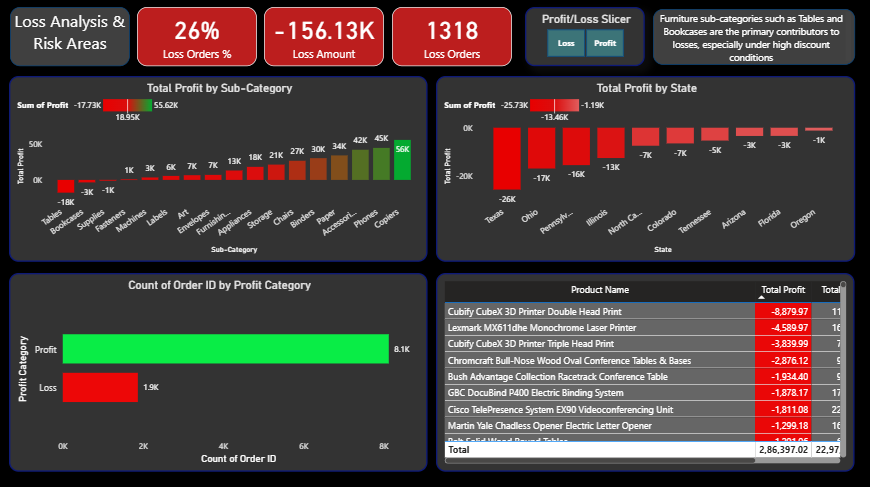

What the dashboard file says about the page in this screenshot:
{"tool":"powerbi","page":{"name":"Loss Analysis ","canvas":[1280,720],"ordinal":1},"visuals":[{"type":"columnChart","fields":{"Category":["dim_product.Sub-Category"],"Y":["fact_superstore.Total Profit"]},"box":[13.2,114.6,615,273.3],"z":0},{"type":"columnChart","fields":{"Category":["dim_location.State"],"Y":["fact_superstore.Total Profit"]},"box":[640.7,114.6,615.7,273.3],"z":1000},{"type":"tableEx","fields":{"Values":["dim_product.Product Name","fact_superstore.Total Profit","fact_superstore.Total Sales","Sum(fact_superstore.Discount)"]},"box":[640.7,404.1,615,292.4],"z":2000},{"type":"slicer","title":"Profit/Loss Slicer","fields":{"Values":["fact_superstore.Profit Category"]},"box":[771.4,13.2,176.3,86.7],"z":3000},{"type":"card","fields":{"Values":["fact_superstore.Loss Amount"]},"box":[387.9,13.2,176.3,86.7],"z":4000},{"type":"card","fields":{"Values":["fact_superstore.Loss Orders"]},"box":[576,13.2,176.3,86.7],"z":5000},{"type":"card","fields":{"Values":["fact_superstore.Loss Orders %"]},"box":[201.3,13.2,176.3,86.7],"z":6000},{"type":"textbox","box":[14.7,13.2,176.3,86.7],"z":7000},{"type":"textbox","box":[959.5,16.2,296.8,82.3],"z":8000},{"type":"barChart","fields":{"Y":["CountNonNull(fact_superstore.Order ID)"],"Category":["fact_superstore.Profit Category"]},"box":[13,404,615,292],"z":9000}]}

Visuals, with their boxes in screenshot pixels (x1, y1, x2, y2), scaled from the page's 1280x720 canvas onto the 870x487 screenshot:
columnChart - dim_product.Sub-Category x fact_superstore.Total Profit: (left=9, top=78, right=427, bottom=262)
columnChart - dim_location.State x fact_superstore.Total Profit: (left=435, top=78, right=854, bottom=262)
tableEx - dim_product.Product Name x fact_superstore.Total Profit: (left=435, top=273, right=853, bottom=471)
"Profit/Loss Slicer" slicer: (left=524, top=9, right=644, bottom=68)
card - fact_superstore.Loss Amount: (left=264, top=9, right=383, bottom=68)
card - fact_superstore.Loss Orders: (left=392, top=9, right=511, bottom=68)
card - fact_superstore.Loss Orders %: (left=137, top=9, right=257, bottom=68)
textbox: (left=10, top=9, right=130, bottom=68)
textbox: (left=652, top=11, right=854, bottom=67)
barChart - CountNonNull(fact_superstore.Order ID) x fact_superstore.Profit Category: (left=9, top=273, right=427, bottom=471)
